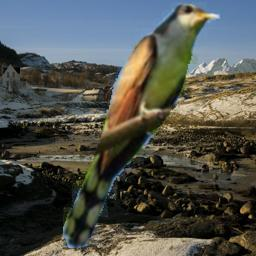Cuckoo: (63, 2, 220, 248)
